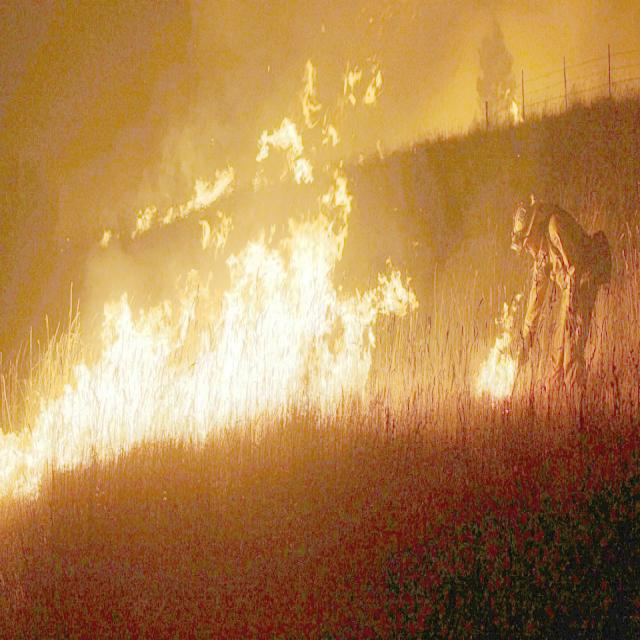api: (1, 284, 199, 503), (214, 188, 352, 442), (188, 241, 226, 444), (301, 65, 385, 142), (257, 123, 317, 187), (364, 264, 426, 323), (173, 160, 227, 225), (475, 334, 516, 403), (350, 282, 374, 399), (126, 209, 159, 250), (100, 225, 115, 247)
asap: (410, 1, 605, 100)
